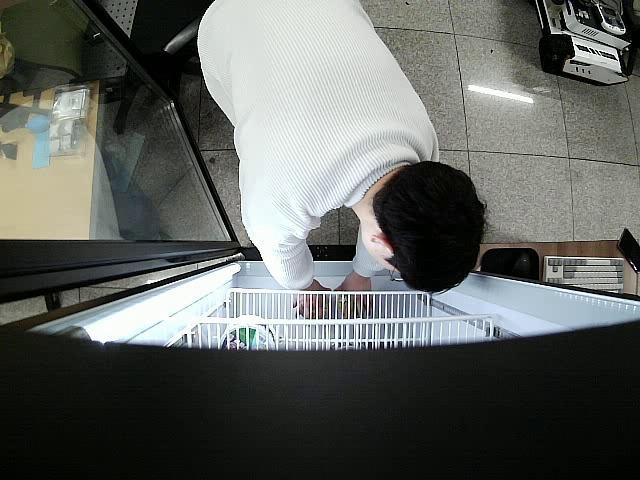04_chapagetti_S: (336, 293, 367, 320)
